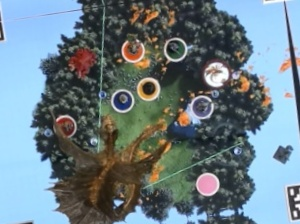blue: (107, 84, 137, 115)
green: (158, 32, 190, 65)
orange: (119, 33, 148, 63)
pink: (190, 167, 224, 198)
red: (50, 110, 80, 138)
violet: (186, 91, 220, 122)
yellow: (134, 72, 163, 102)
